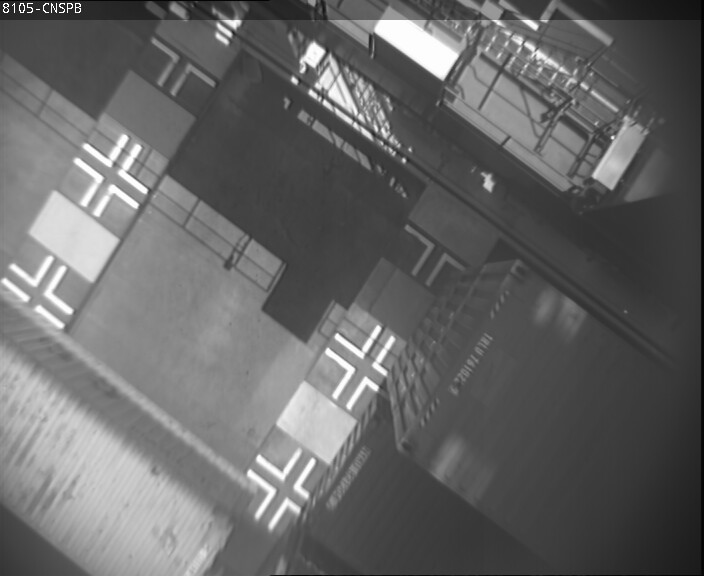groundmarker_1: (400, 220, 471, 286), (329, 325, 400, 391), (319, 344, 390, 410), (7, 254, 78, 320), (70, 151, 141, 217), (78, 132, 149, 198), (147, 29, 218, 95), (252, 447, 323, 512), (240, 466, 311, 531)
